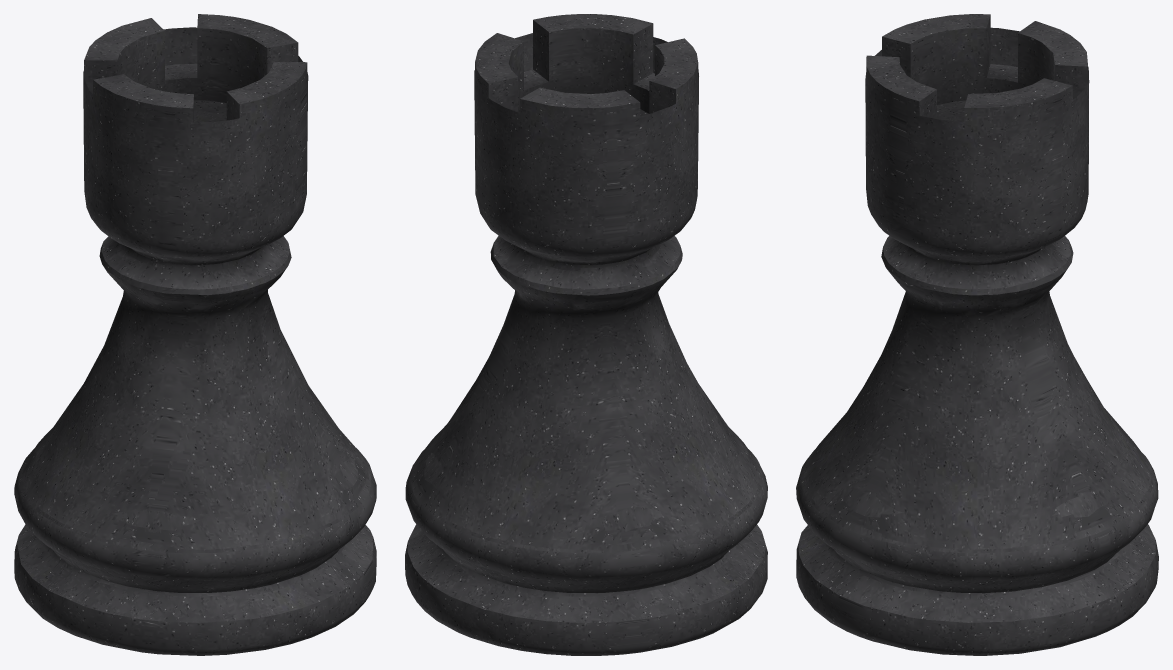
Rendered from vez_cerna.glb.
The picture shows the model from 3 angles, left to right: view 1: azimuth 30°, elevation 25°; view 2: azimuth 150°, elevation 25°; view 3: azimuth 270°, elevation 25°; orthographic projection.
Visible parts, largest first — view 1: vez_cerna; view 2: vez_cerna; view 3: vez_cerna.
Part boxes in pixels (x1,y1,x2,y2): vez_cerna: (14, 14, 376, 655); vez_cerna: (405, 14, 767, 655); vez_cerna: (796, 14, 1158, 655).
Size of the model in its own units: 0.0358 by 0.058 by 0.0359.
1 material, 1 textured.
